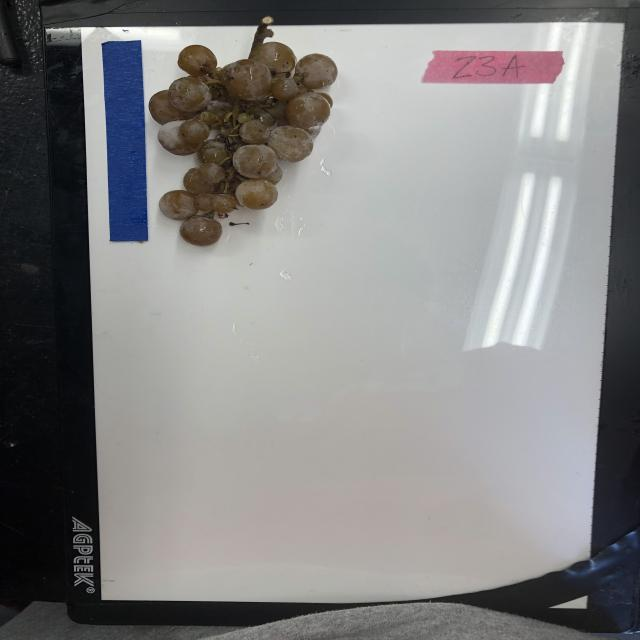grape_cluster: (150, 13, 338, 247)
index: (421, 48, 564, 86)
measure_label: (102, 40, 149, 242)
